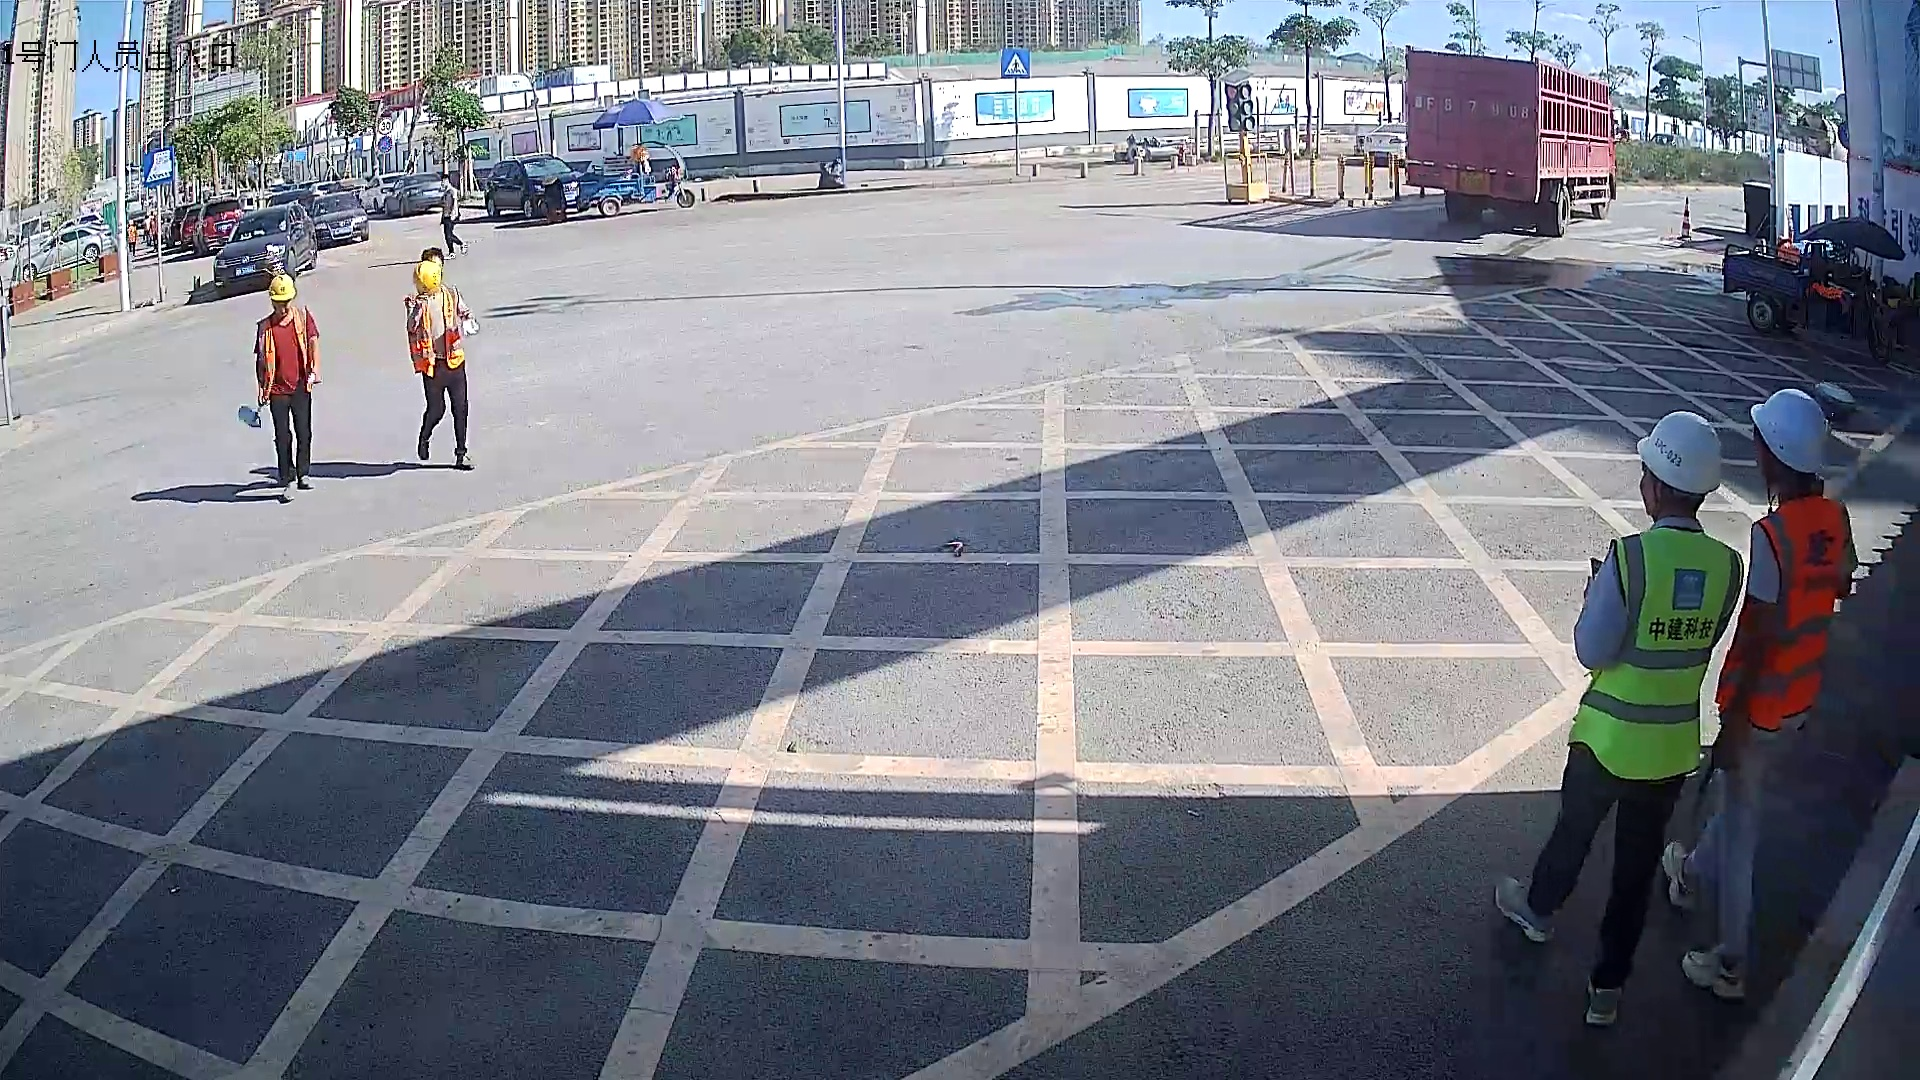head: (439, 172, 449, 188)
ordinary_clothes: (439, 187, 458, 225)
person: (1493, 405, 1748, 1031), (1662, 386, 1863, 1009), (401, 247, 481, 471), (250, 271, 324, 503), (437, 171, 469, 262)
reflective_vest: (1568, 521, 1746, 789), (1715, 496, 1847, 733), (403, 284, 466, 377), (256, 305, 311, 402)
safety_helmet: (1633, 409, 1725, 525), (1747, 386, 1832, 495), (268, 272, 298, 318), (413, 259, 442, 297)
